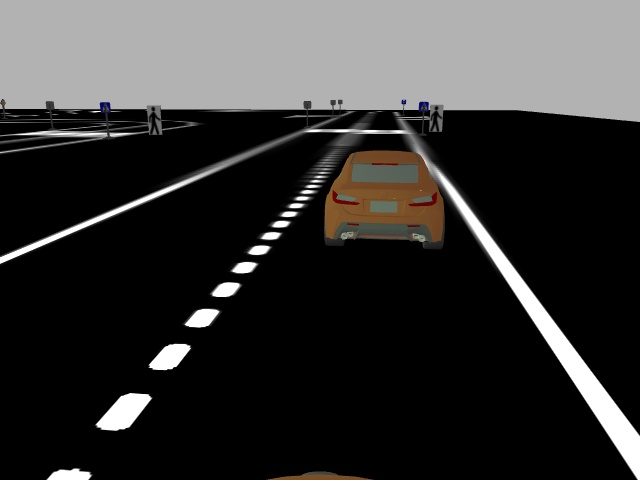pedestrian: (144, 103, 165, 138), (429, 103, 445, 134)
